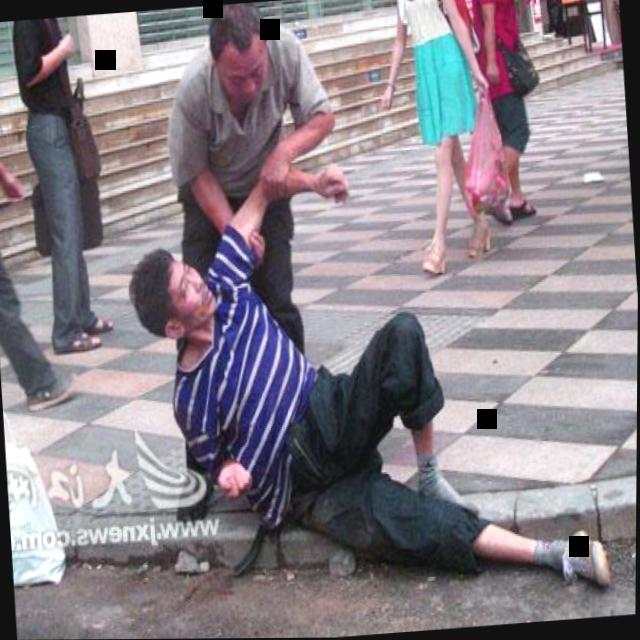Fall-Detected: (115, 150, 632, 633)
